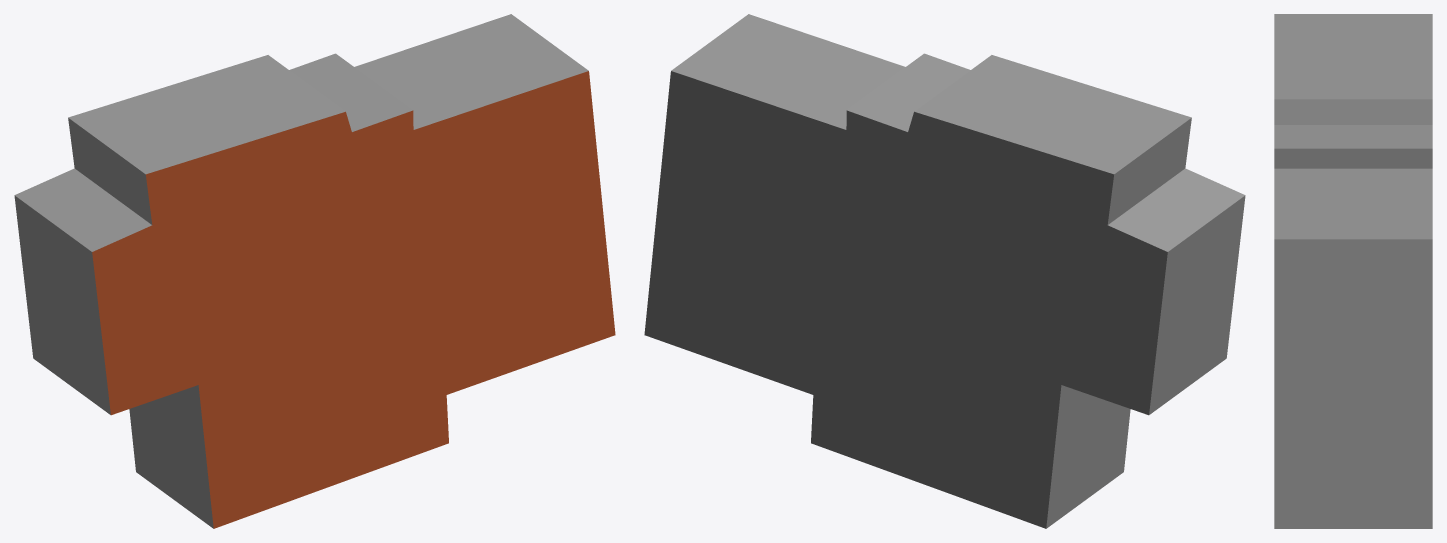
The model's file is construction_7001_assumed_A_Casa_h6m.obj.
3 renders of one model, left to right at view 1: azimuth 30°, elevation 25°; view 2: azimuth 150°, elevation 25°; view 3: azimuth 270°, elevation 25°, orthographic. The views are drawn at different scales.
Parts seen in each view (by area): view 1: construction_7001_assumed_A_Casa; view 2: construction_7001_assumed_A_Casa; view 3: construction_7001_assumed_A_Casa.
Part boxes in pixels (<box>): construction_7001_assumed_A_Casa: <box>14,14,615,528</box>; construction_7001_assumed_A_Casa: <box>644,14,1245,528</box>; construction_7001_assumed_A_Casa: <box>1274,14,1432,528</box>.
Bounding box in the file's own units: 23.33 × 16.4 × 6.
